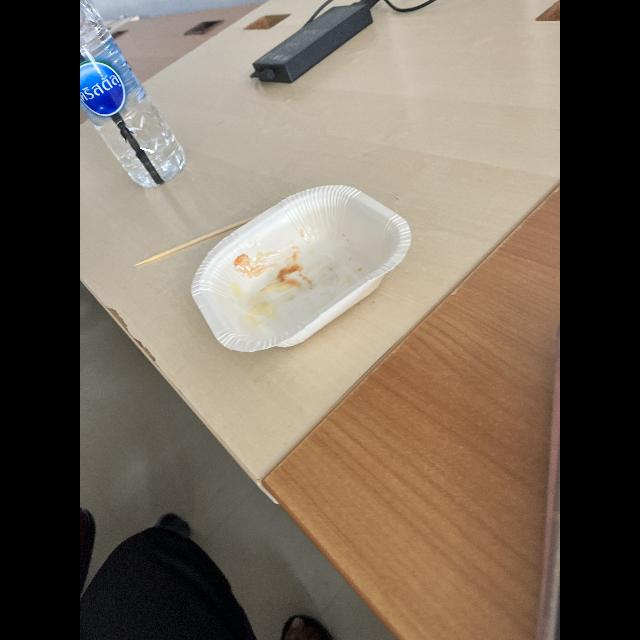cardboard_bowl: (191, 183, 413, 357)
stick: (128, 212, 250, 262)
